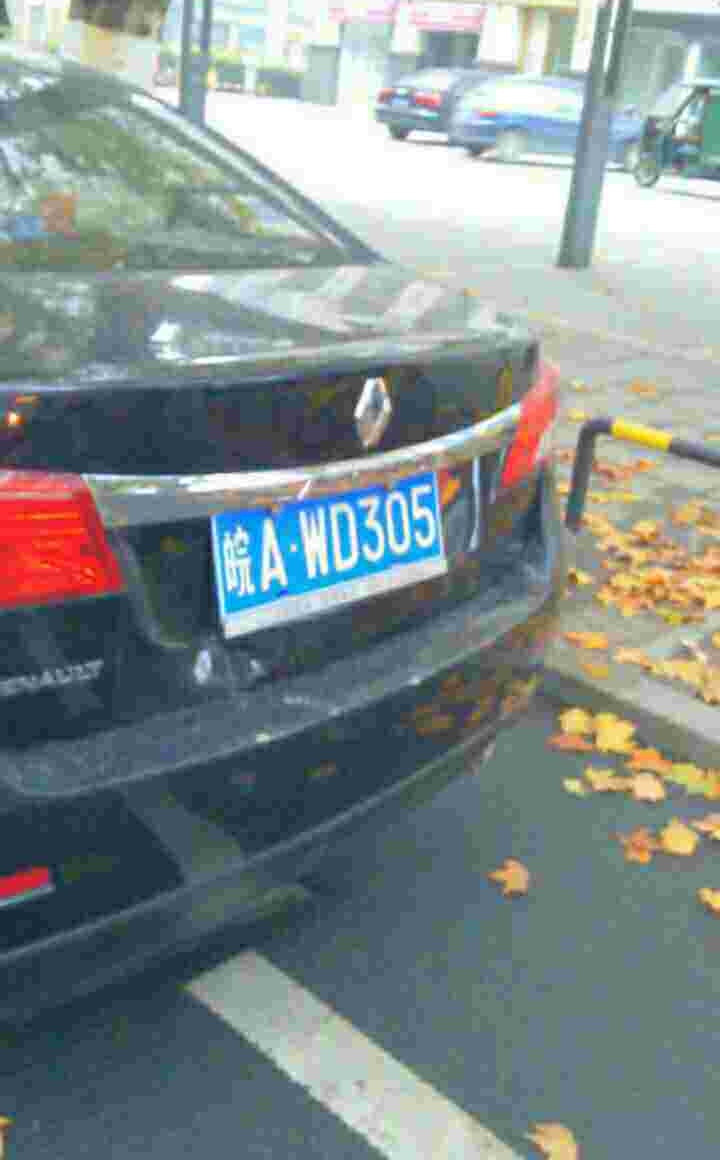license_plate: (215, 481, 450, 609)
